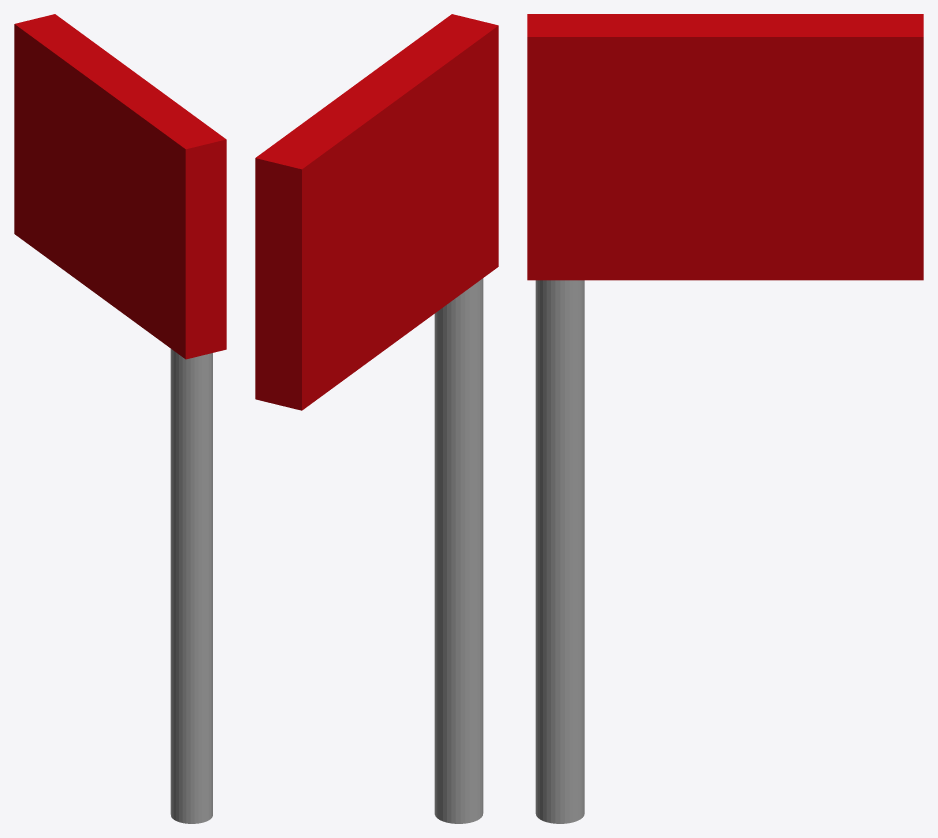
The model's file is gool.obj.
The picture shows the model from 3 angles, left to right: view 1: azimuth 30°, elevation 25°; view 2: azimuth 150°, elevation 25°; view 3: azimuth 270°, elevation 25°; orthographic projection. The views are drawn at different scales.
Parts seen in each view (by area): view 1: 円柱; view 2: 円柱; view 3: 円柱.
Boxes of the visible parts, x1=… form: 円柱: x1=14, y1=14, x2=226, y2=823; 円柱: x1=255, y1=14, x2=498, y2=823; 円柱: x1=527, y1=14, x2=923, y2=823.
Size of the model in its own units: 0.2027 by 3.24 by 1.48.
2 materials, 2 textured.
